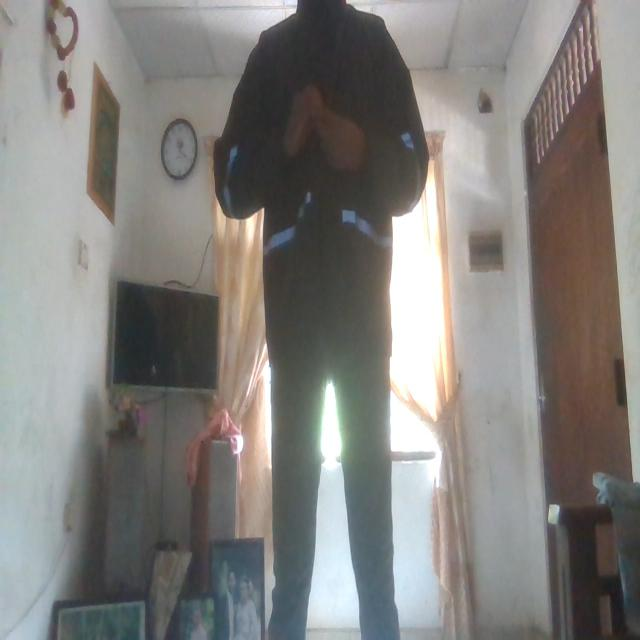Jacket_Wearer: (218, 21, 430, 351)
Person: (218, 2, 426, 640)
